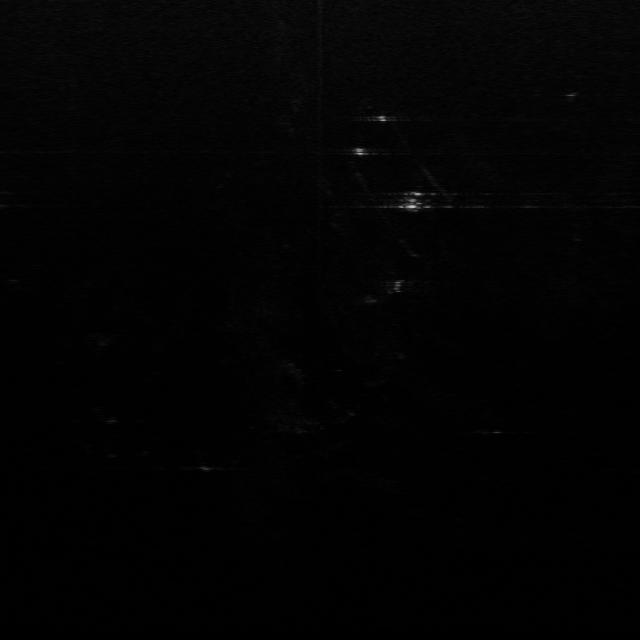rov: (397, 190, 431, 213)
